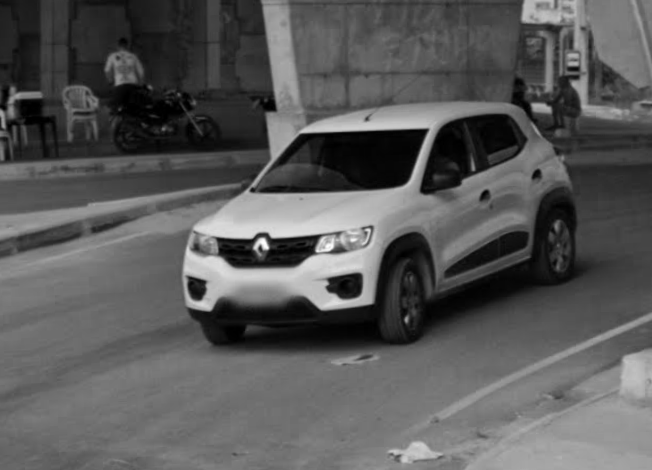car: (179, 70, 580, 346)
